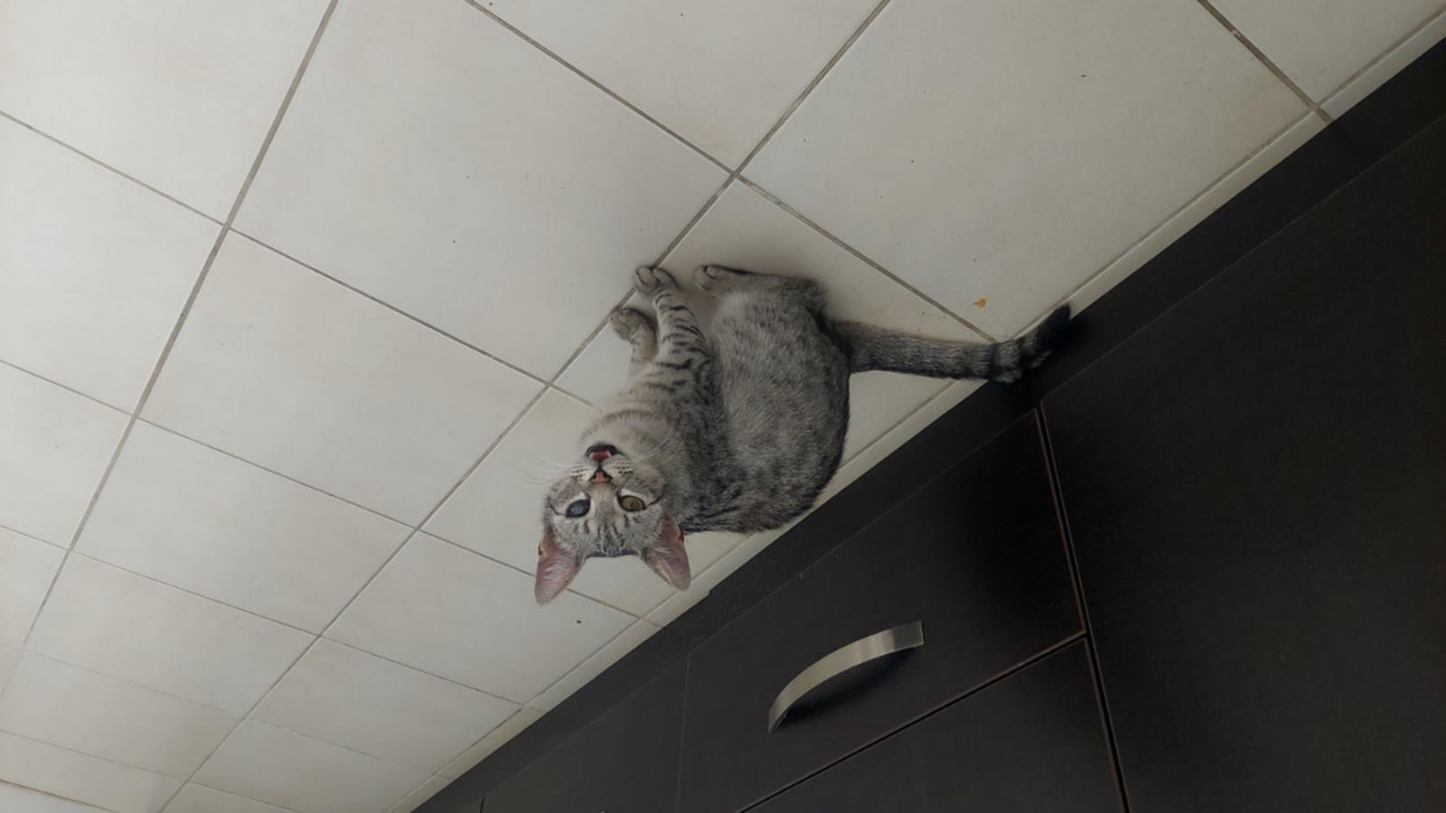macka: (535, 263, 1071, 606)
